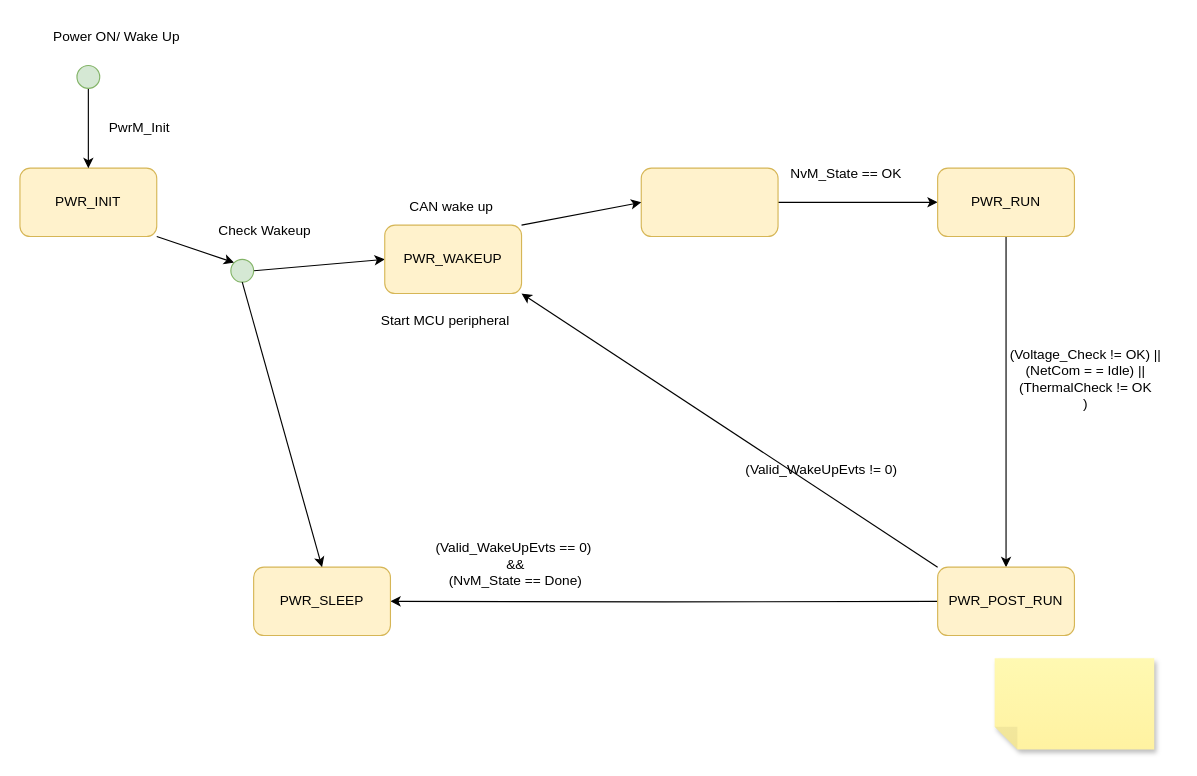
The diagram is 1197 pixels wide and 776 high, and some of its shapes have lost their labels. Each missing label, with the centre of its shape:
"external voltage off" belongs at (x=1075, y=705).
"PWR_PRE_RUN" belongs at (x=709, y=202).
